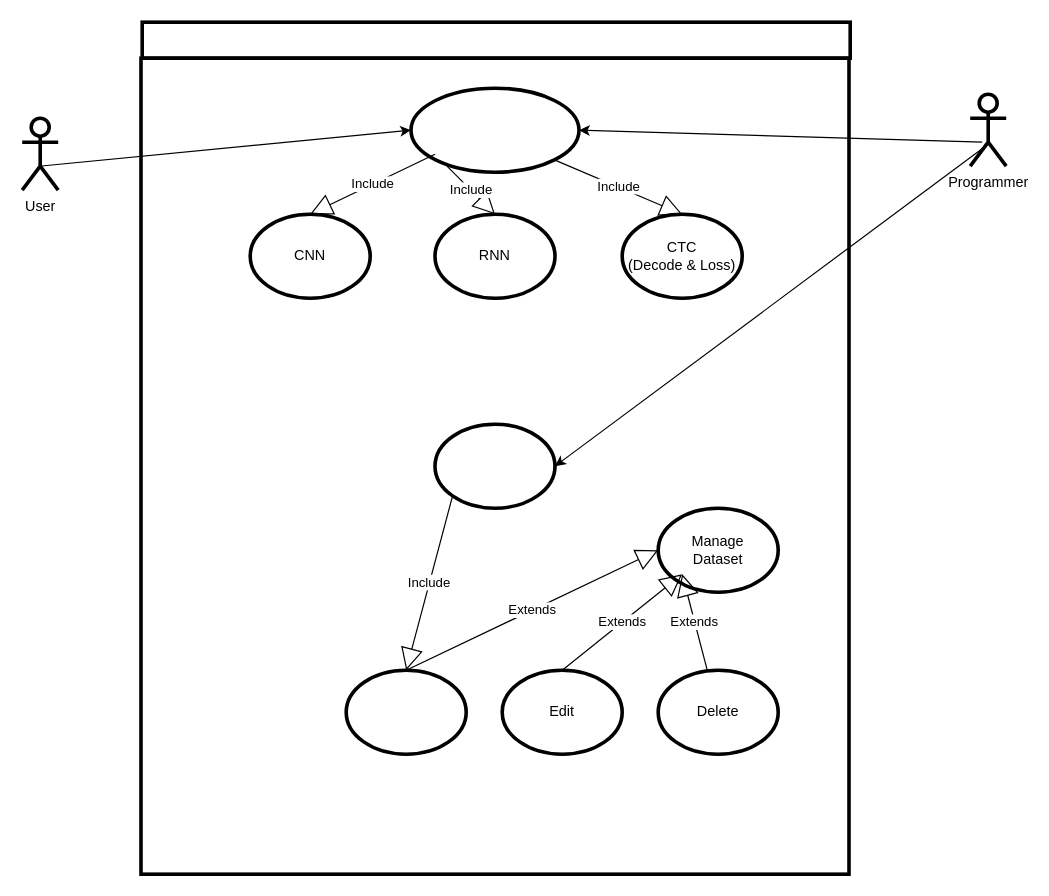
Some shapes in this 1049 by 896 pixel diagram are drawn without their labels. Here are the shapes that lost their labels. From the top down, the centre of each, then its label:
At (495,39): "Use Case Diagram".
At (494,129): "Deteksi Tulisan Tangan".
At (494,465): "Dataset".
At (405,711): "Insert".
